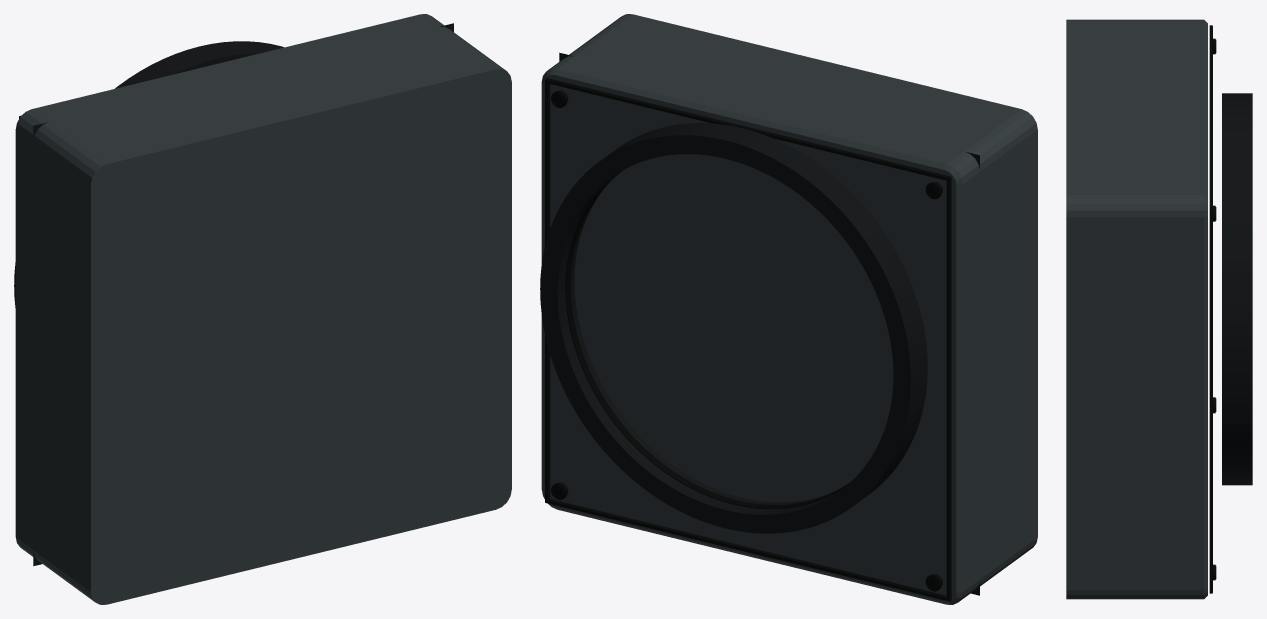
File: MFDStudio.obj
3 views of the same model, side by side, from view 1: azimuth 30°, elevation 25°; view 2: azimuth 150°, elevation 25°; view 3: azimuth 270°, elevation 25° (orthographic). The views are drawn at different scales.
Visible parts, largest first — view 1: MFDStudioBody; view 2: MFDStudioBody, MFDStudioScrews; view 3: MFDStudioBody.
Boxes of the visible parts, <box> form: MFDStudioBody: <box>14,14,511,604</box>; MFDStudioBody: <box>540,14,1037,604</box>; MFDStudioScrews: <box>551,90,942,591</box>; MFDStudioBody: <box>1066,19,1252,599</box>.
Size of the model in its own units: 0.16 by 0.16 by 0.067.
9 materials, 1 textured.
